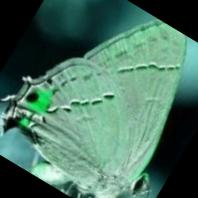butterfly: (3, 19, 186, 198)
